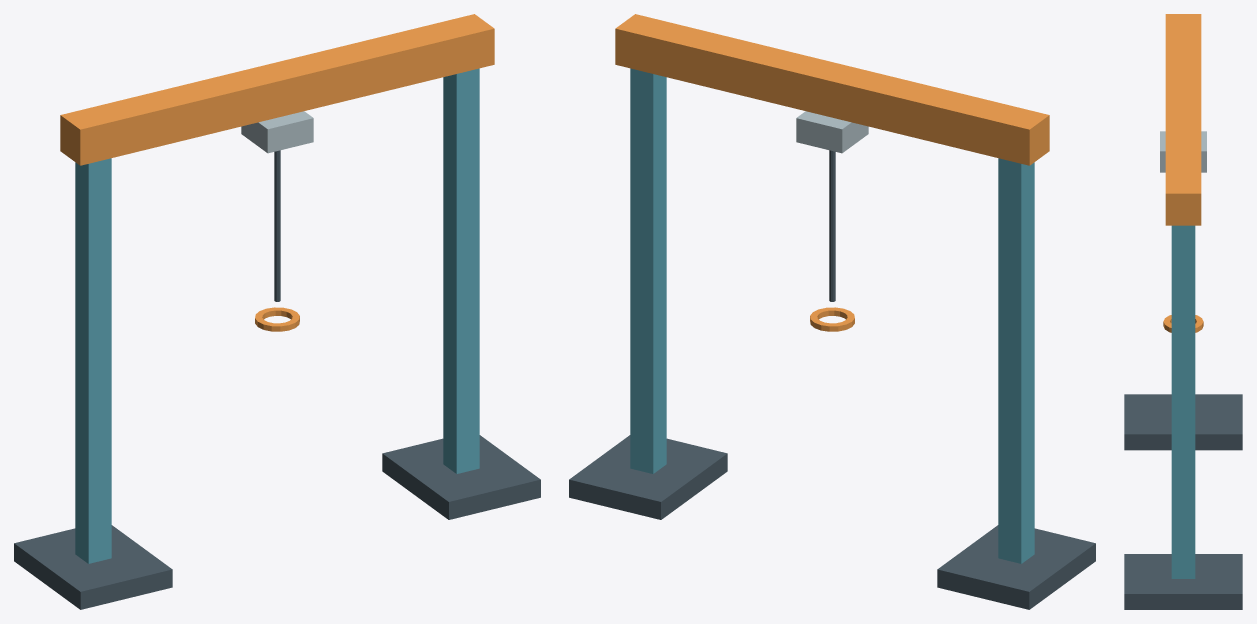
Rendered from overhead-hoist-gantry.glb.
3 views of the same model, side by side, from view 1: azimuth 30°, elevation 25°; view 2: azimuth 150°, elevation 25°; view 3: azimuth 270°, elevation 25° (orthographic). The views are drawn at different scales.
Parts seen in each view (by area): view 1: blue, orange, dark, steel; view 2: blue, orange, dark, steel; view 3: dark, blue, orange, steel.
Boxes of the visible parts, x1,y1,x2,y2 form: blue: (75, 68, 479, 563); orange: (60, 14, 494, 331); dark: (14, 150, 540, 609); steel: (241, 111, 313, 153); blue: (630, 68, 1034, 563); orange: (615, 14, 1049, 331); dark: (569, 150, 1095, 609); steel: (796, 111, 868, 153); dark: (1124, 394, 1242, 609); blue: (1171, 225, 1195, 578); orange: (1163, 14, 1203, 332); steel: (1160, 131, 1206, 172).
Size of the model in its own units: 4 by 3.8 by 1.
